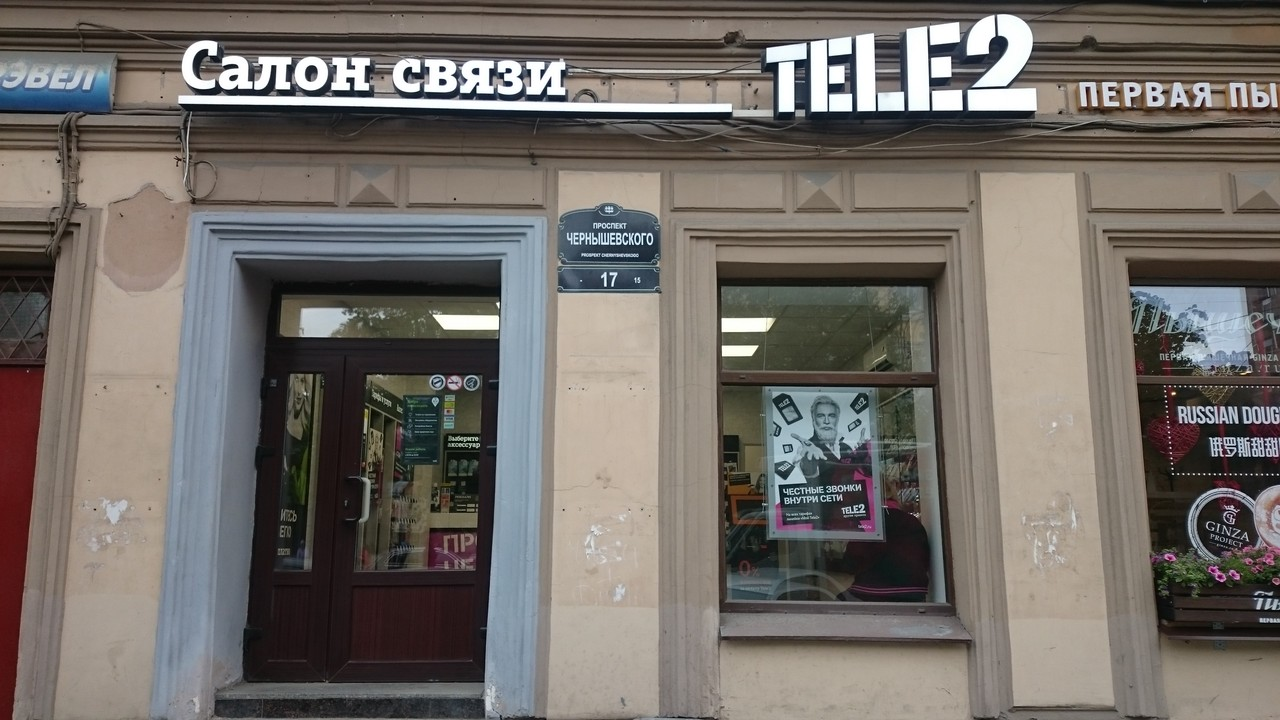door: (344, 354, 493, 688)
signboard: (174, 31, 735, 124), (759, 12, 1039, 126), (1069, 75, 1280, 115)
win_ad: (761, 382, 885, 542)
window: (713, 260, 948, 614), (1129, 266, 1280, 630), (272, 297, 500, 337)
